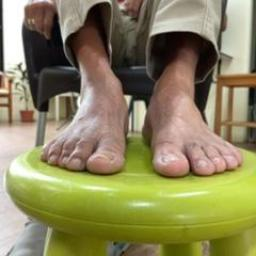Front View -Both Feet-: (26, 51, 252, 204)
